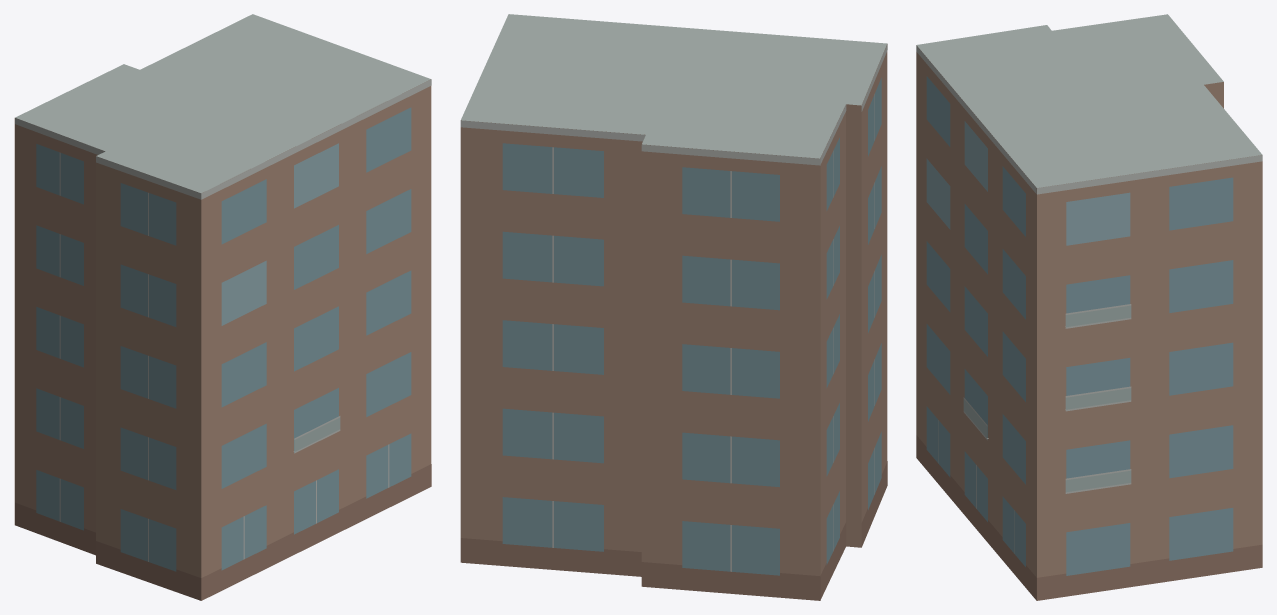
File: survey-upis-32702141.glb
3 renders of one model, left to right at view 1: azimuth 30°, elevation 25°; view 2: azimuth 150°, elevation 25°; view 3: azimuth 270°, elevation 25°, orthographic. The views are drawn at different scales.
Visible parts, largest first — view 1: survey-upis-32702141.tmp; view 2: survey-upis-32702141.tmp; view 3: survey-upis-32702141.tmp.
Boxes of the visible parts, x1,y1,x2,y2 form: survey-upis-32702141.tmp: (14, 14, 431, 600); survey-upis-32702141.tmp: (460, 14, 887, 600); survey-upis-32702141.tmp: (916, 14, 1262, 600).
Size of the model in its own units: 14.03 by 15.5 by 11.79.
